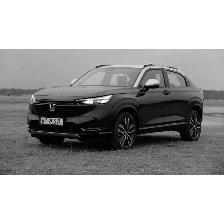NON-EV: (27, 61, 205, 152)
